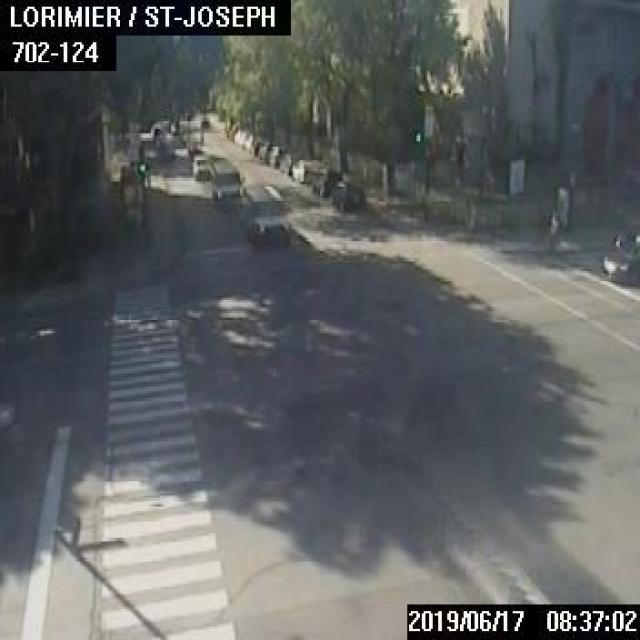vehicle: (239, 184, 289, 242), (601, 222, 638, 284), (210, 161, 244, 210), (330, 180, 364, 212), (310, 166, 340, 194), (290, 158, 317, 182), (191, 154, 211, 178), (279, 152, 301, 173), (267, 145, 286, 167), (244, 133, 258, 152), (258, 141, 271, 158), (239, 130, 248, 146), (233, 126, 240, 140)
